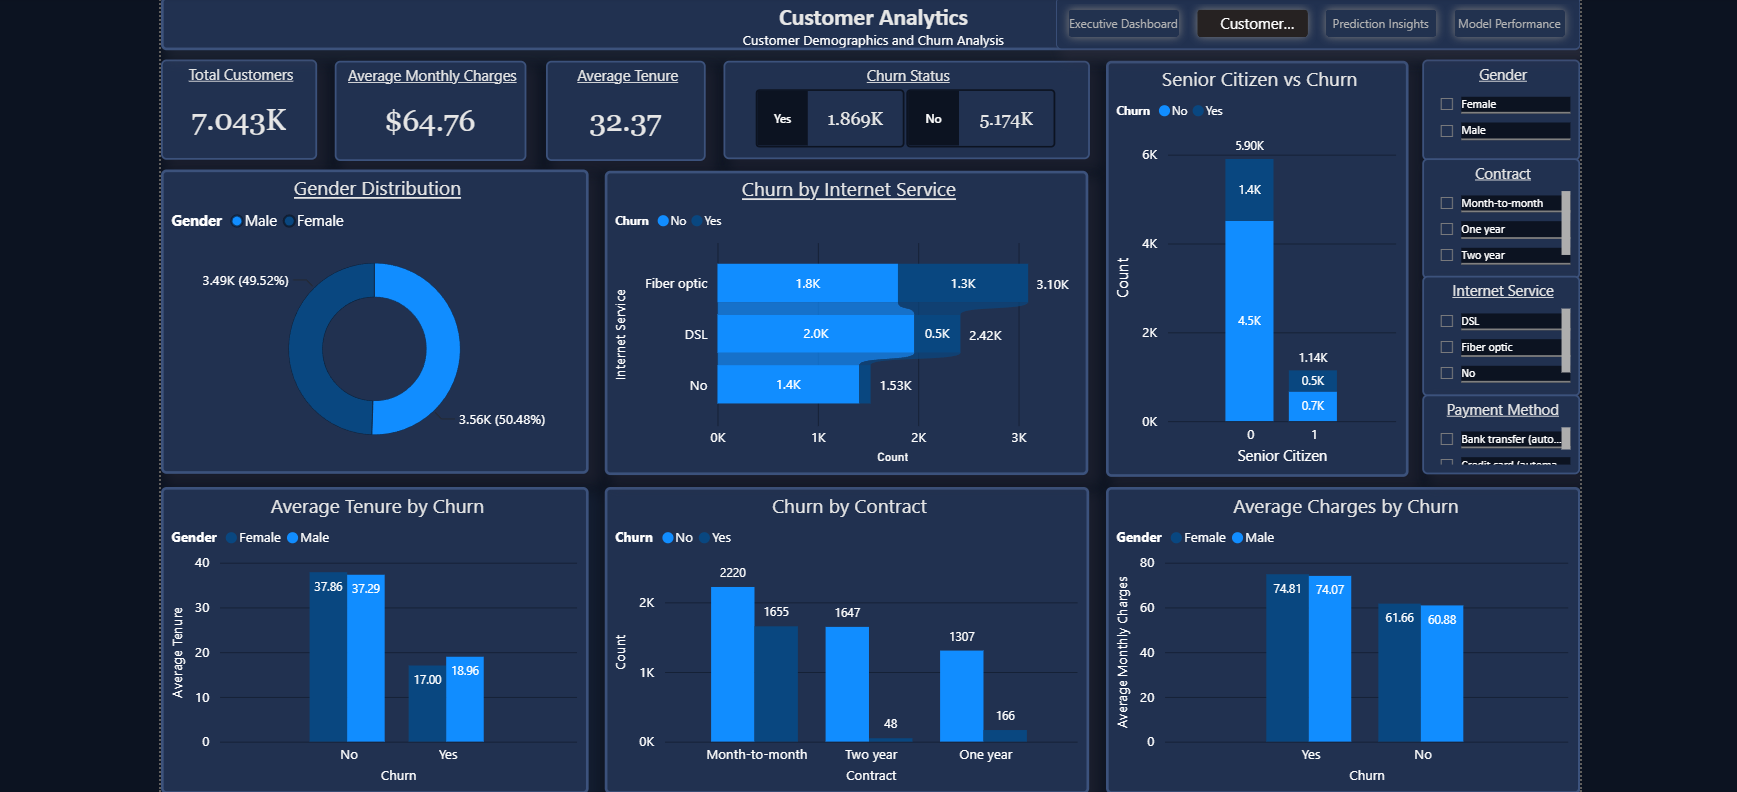

This screenshot's page, from the dashboard's own definition file:
{"tool":"powerbi","page":{"name":"Customer Analytics","canvas":[1280,720],"ordinal":1},"visuals":[{"type":"cardVisual","title":"Total Customers","fields":{"Data":["Count(telco_customer.customerID)"]},"box":[0,56.7,141.1,90],"z":0},{"type":"textbox","title":"Customer Analytics","box":[0,0,1280,48],"z":1000},{"type":"cardVisual","title":"Average Monthly Charges","fields":{"Data":["Avg(telco_customer.MonthlyCharges)"]},"box":[157.1,57.1,172.9,90],"z":2000},{"type":"cardVisual","title":"Average Tenure","fields":{"Data":["Avg(telco_customer.tenure)"]},"box":[347.1,57.1,144.3,90],"z":3000},{"type":"cardVisual","title":"Churn Status","fields":{"Data":["CountNonNull(telco_customer.Churn)"],"Rows":["telco_customer.Churn"]},"box":[507.1,57.1,330,88.6],"z":4000},{"type":"clusteredColumnChart","title":"Churn by Contract","fields":{"Category":["telco_customer.Contract"],"Series":["telco_customer.Churn"],"Y":["CountNonNull(telco_customer.customerID)"]},"box":[400,442.2,436.7,277.8],"z":5000},{"type":"barChart","title":"Churn by Internet Service","fields":{"Category":["telco_customer.InternetService"],"Series":["telco_customer.Churn"],"Y":["CountNonNull(telco_customer.customerID)"]},"box":[400,157.1,435.7,274.3],"z":6000},{"type":"donutChart","title":"Gender Distribution","fields":{"Category":["telco_customer.gender"],"Y":["CountNonNull(telco_customer.customerID)"]},"box":[0,155.7,385.7,274.3],"z":7000},{"type":"columnChart","title":"Senior Citizen vs Churn","fields":{"Category":["telco_customer.SeniorCitizen"],"Series":["telco_customer.Churn"],"Y":["CountNonNull(telco_customer.customerID)"]},"box":[852.5,57.5,272.5,375],"z":8000},{"type":"clusteredColumnChart","title":"Average Charges by Churn","fields":{"Category":["telco_customer.Churn"],"Y":["Avg(telco_customer.MonthlyCharges)"],"Series":["telco_customer.gender"]},"box":[852.2,442.2,427.8,277.8],"z":9000},{"type":"clusteredColumnChart","title":"Average Tenure by Churn","fields":{"Category":["telco_customer.Churn"],"Series":["telco_customer.gender"],"Y":["Avg(telco_customer.tenure)"]},"box":[0,442.2,385.6,277.8],"z":10000},{"type":"slicer","title":"Gender","fields":{"Values":["telco_customer.gender"]},"box":[1137.5,56.2,142.5,91.2],"z":11000},{"type":"slicer","title":"Contract","fields":{"Values":["telco_customer.Contract"]},"box":[1137.8,145.6,142.5,108.8],"z":12000},{"type":"slicer","title":"Internet Service","fields":{"Values":["telco_customer.InternetService"]},"box":[1137.8,251.1,142.5,108.8],"z":13000},{"type":"slicer","title":"Payment Method","fields":{"Values":["telco_customer.PaymentMethod"]},"box":[1137.8,358.9,142.2,72.2],"z":14000},{"type":"pageNavigator","box":[807.1,0,472.9,47.1],"z":14001}]}

Visuals, with their boxes on the page's 1280x720 design canvas (x1, y1, x2, y2). These are canvas units, not pixel positions in the 1737x792 screenshot, which may show the page scaled, cropped or inside an application window:
"Total Customers" cardVisual: [x1=0, y1=57, x2=141, y2=147]
"Customer Analytics" textbox: [x1=0, y1=0, x2=1280, y2=48]
"Average Monthly Charges" cardVisual: [x1=157, y1=57, x2=330, y2=147]
"Average Tenure" cardVisual: [x1=347, y1=57, x2=491, y2=147]
"Churn Status" cardVisual: [x1=507, y1=57, x2=837, y2=146]
"Churn by Contract" clusteredColumnChart: [x1=400, y1=442, x2=837, y2=720]
"Churn by Internet Service" barChart: [x1=400, y1=157, x2=836, y2=431]
"Gender Distribution" donutChart: [x1=0, y1=156, x2=386, y2=430]
"Senior Citizen vs Churn" columnChart: [x1=852, y1=58, x2=1125, y2=432]
"Average Charges by Churn" clusteredColumnChart: [x1=852, y1=442, x2=1280, y2=720]
"Average Tenure by Churn" clusteredColumnChart: [x1=0, y1=442, x2=386, y2=720]
"Gender" slicer: [x1=1138, y1=56, x2=1280, y2=147]
"Contract" slicer: [x1=1138, y1=146, x2=1280, y2=254]
"Internet Service" slicer: [x1=1138, y1=251, x2=1280, y2=360]
"Payment Method" slicer: [x1=1138, y1=359, x2=1280, y2=431]
pageNavigator: [x1=807, y1=0, x2=1280, y2=47]
